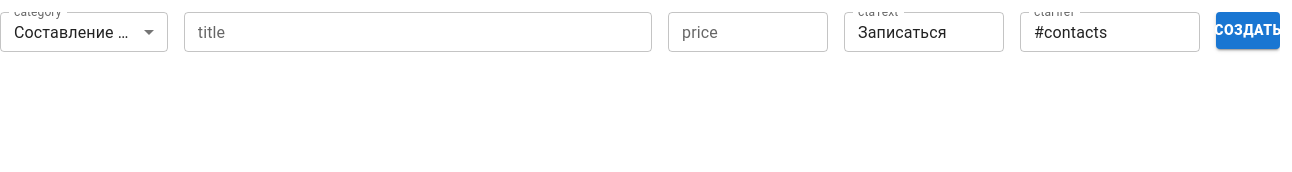
Test: ServicesAdminClient › shows API error when create fails
The image size is (1292, 172).
Step 1. Click the button "Создать" → coordinates (1248, 30), box top-left (1216, 12), bottom-right (1280, 48)
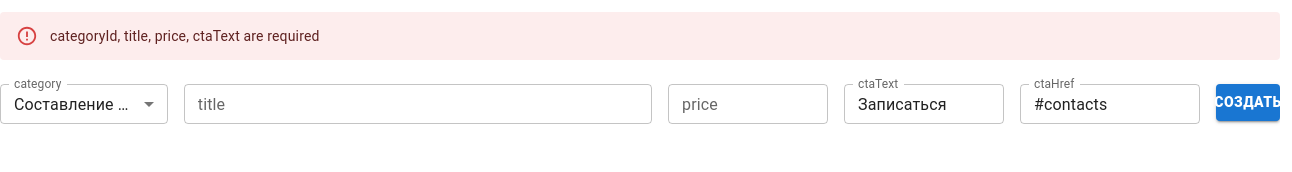
Expected: the text "categoryId, title, price, ctaText are required" is shown, top-left (50, 28), bottom-right (320, 44)
